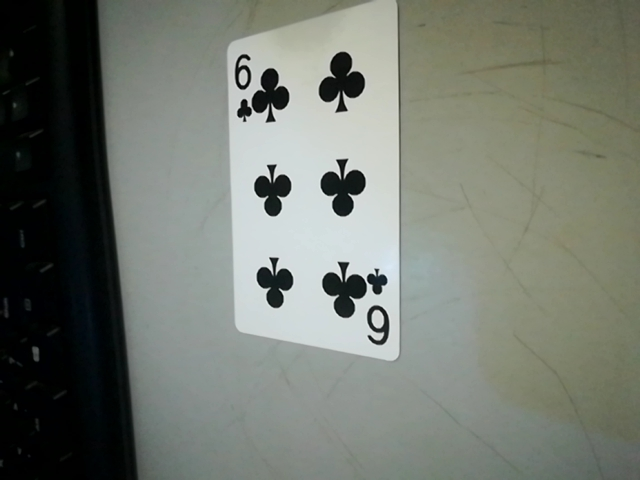mh 6: (356, 270, 399, 358)
